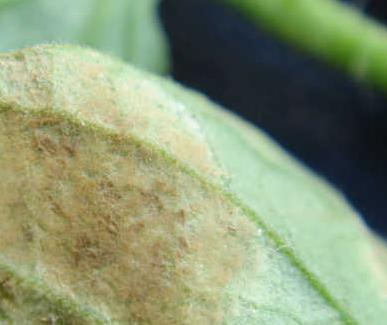Tomato mold leaf: (0, 8, 387, 325)
